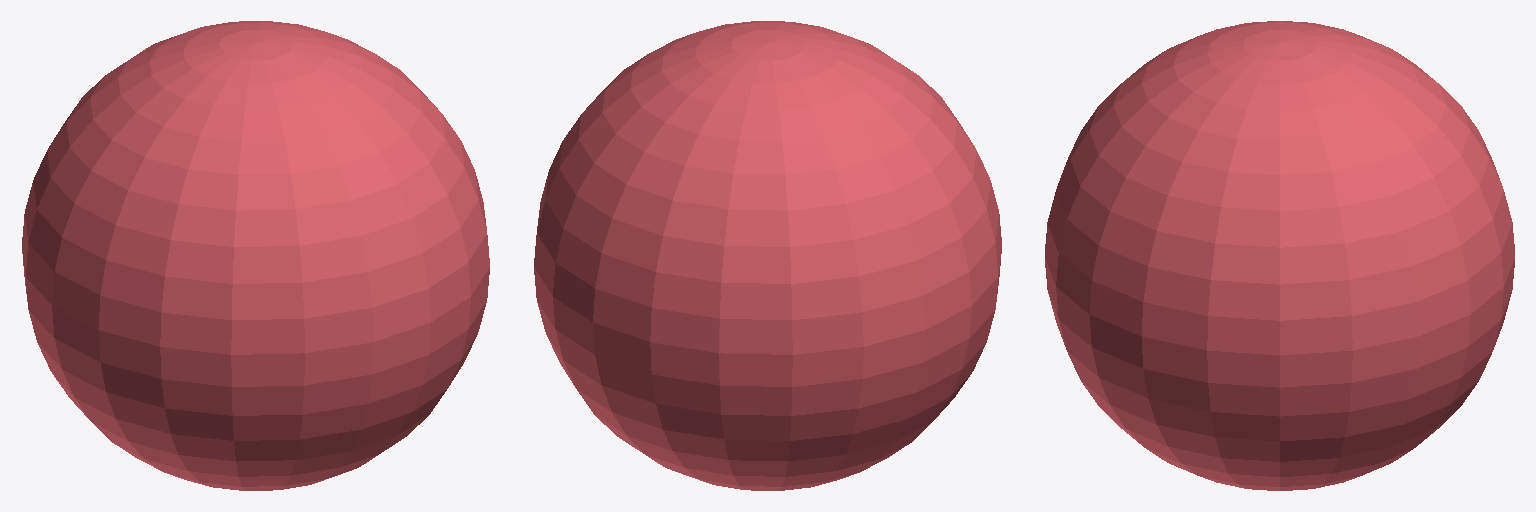
File: newscene_obj.obj
The picture shows the model from 3 angles: view 1: azimuth 30°, elevation 25°; view 2: azimuth 150°, elevation 25°; view 3: azimuth 270°, elevation 25°; orthographic projection.
Visible parts, largest first — view 1: sphere40; view 2: sphere40; view 3: sphere40.
Boxes of the visible parts, box(x1,y1,x2,y2) form: sphere40: box(22, 21, 489, 490); sphere40: box(534, 21, 1001, 490); sphere40: box(1045, 21, 1514, 490).
Size of the model in its own units: 288 by 288 by 288.